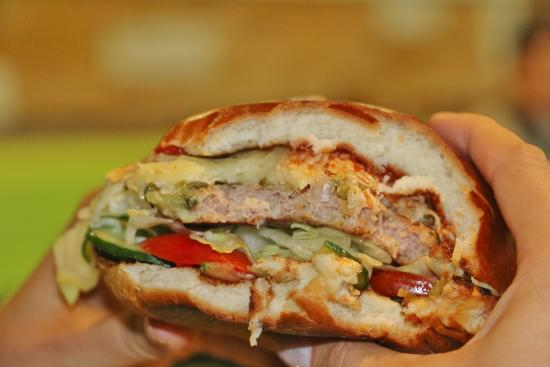hamburger: (78, 81, 511, 355)
